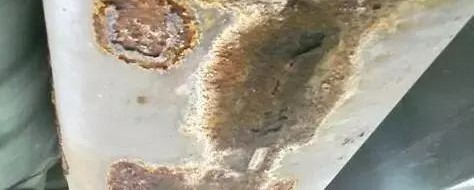Corrosion: (178, 1, 405, 158), (91, 1, 202, 74), (105, 158, 295, 190)
